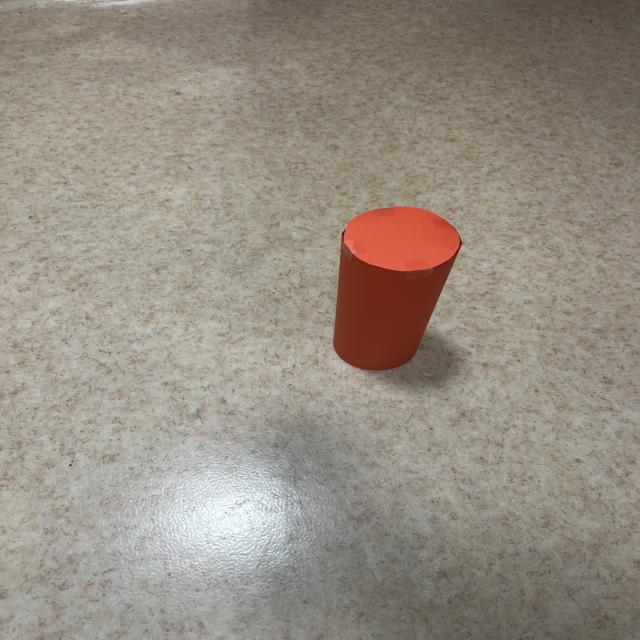przeszkoda: (334, 207, 462, 370)
